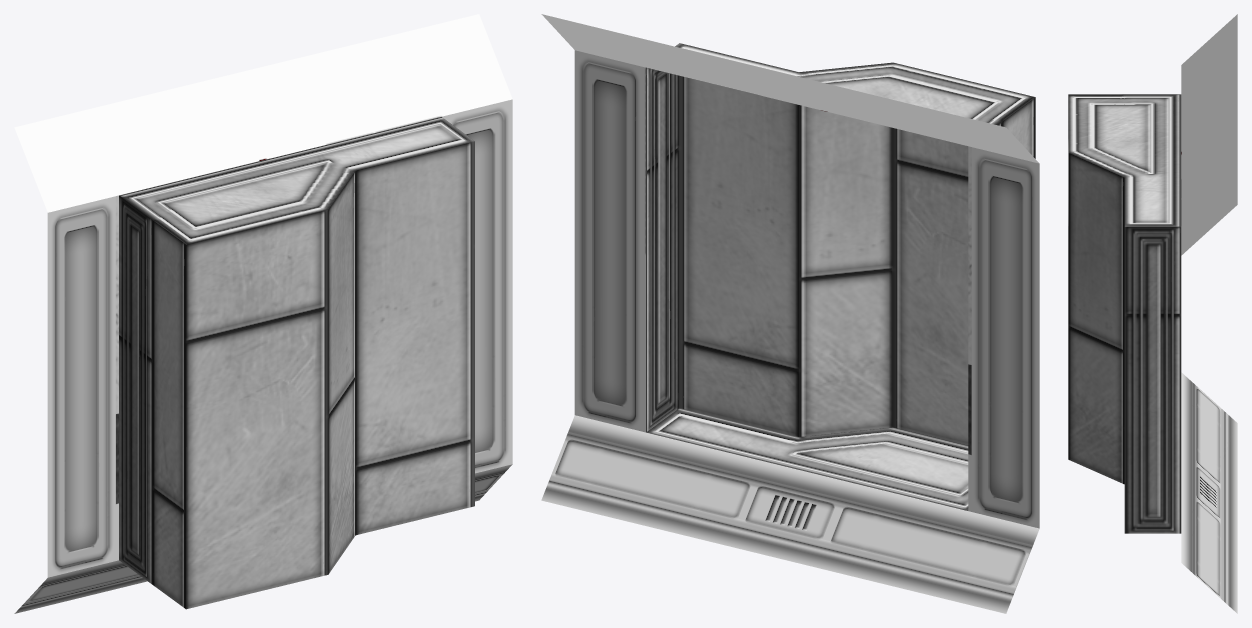
File: Sect_Wall_4b_Empty.FBX
3 views of the same model, side by side, from view 1: azimuth 30°, elevation 25°; view 2: azimuth 150°, elevation 25°; view 3: azimuth 270°, elevation 25° (orthographic). The views are drawn at different scales.
Visible parts, largest first — view 1: Sect_Wall_4b_Empty; view 2: Sect_Wall_4b_Empty; view 3: Sect_Wall_4b_Empty.
Part boxes in pixels (x1=…): Sect_Wall_4b_Empty: x1=14, y1=14, x2=512, y2=613; Sect_Wall_4b_Empty: x1=541, y1=14, x2=1039, y2=613; Sect_Wall_4b_Empty: x1=1068, y1=14, x2=1237, y2=613.
Size of the model in its own units: 4 by 4 by 1.5.
